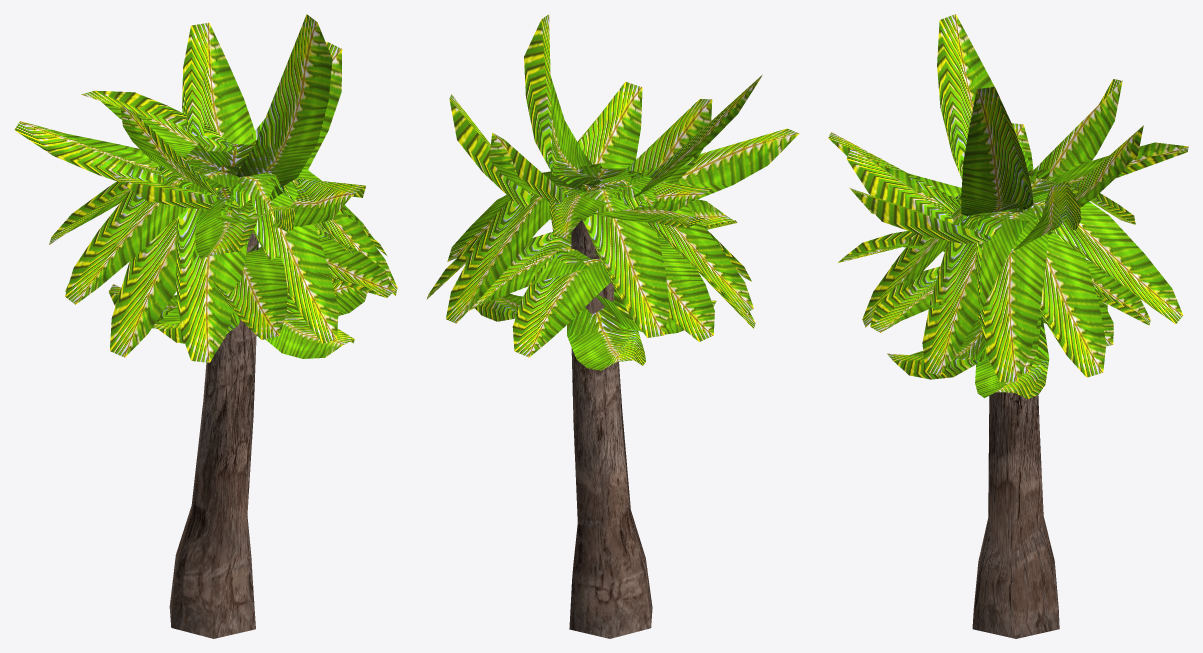
File: abaca.fbx
3 renders of one model, left to right at view 1: azimuth 30°, elevation 25°; view 2: azimuth 150°, elevation 25°; view 3: azimuth 270°, elevation 25°, orthographic. The views are drawn at different scales.
Visible parts, largest first — view 1: Plane.003; view 2: Plane.003; view 3: Plane.003.
Boxes of the visible parts, box(x1,y1,x2,y2) form: Plane.003: box(14, 14, 397, 638); Plane.003: box(426, 14, 799, 638); Plane.003: box(828, 14, 1188, 638).
Size of the model in its own units: 155 by 276 by 158.
